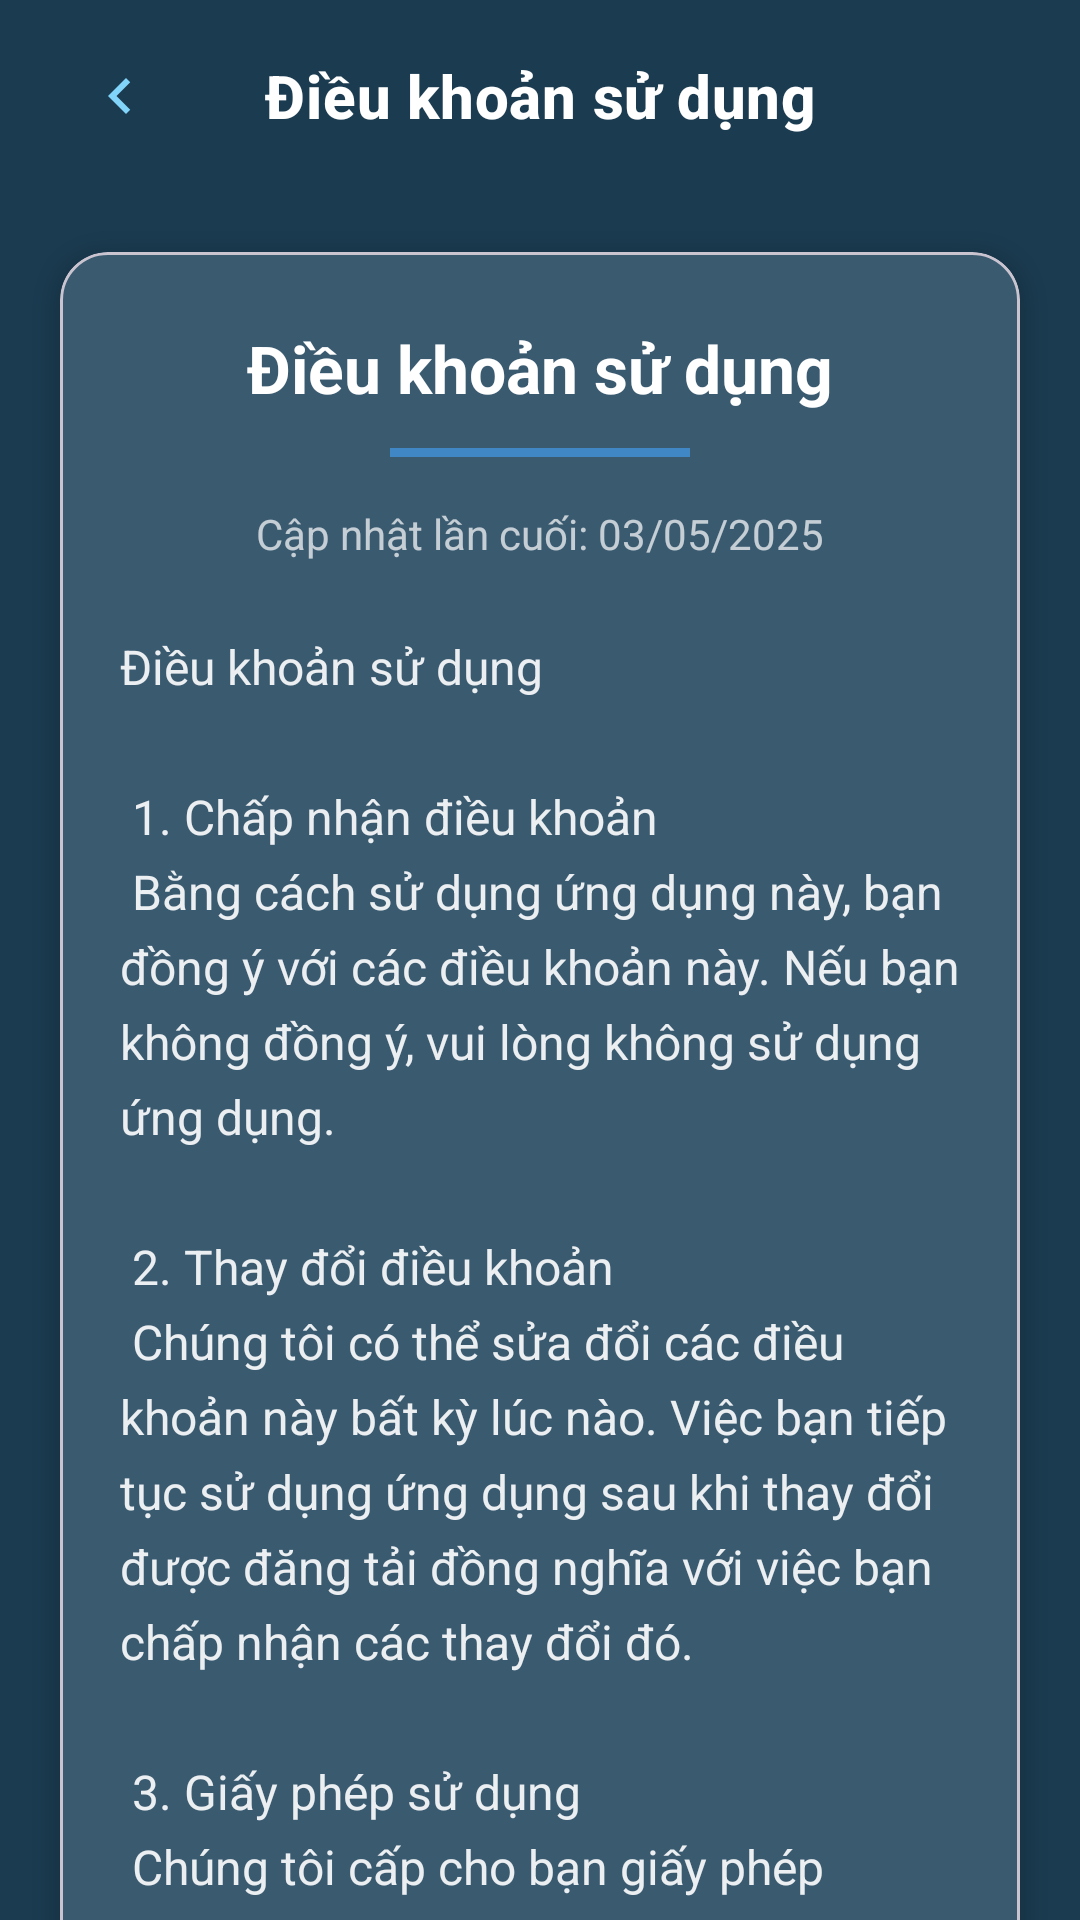

Screen size 1080w x 1920h. Icon name, then its box in pixels as (x1, y1, x2, y2):
Quay lại: (108, 78, 130, 114)
